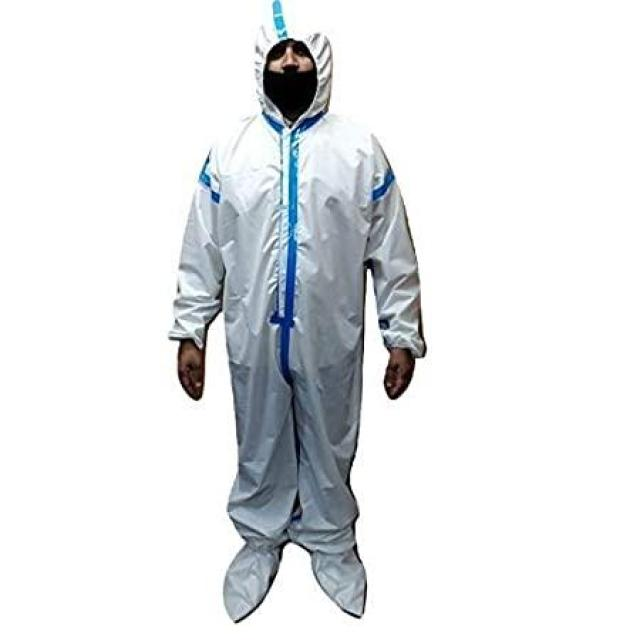Coverall: (161, 2, 410, 629)
Mask: (252, 57, 334, 115)
